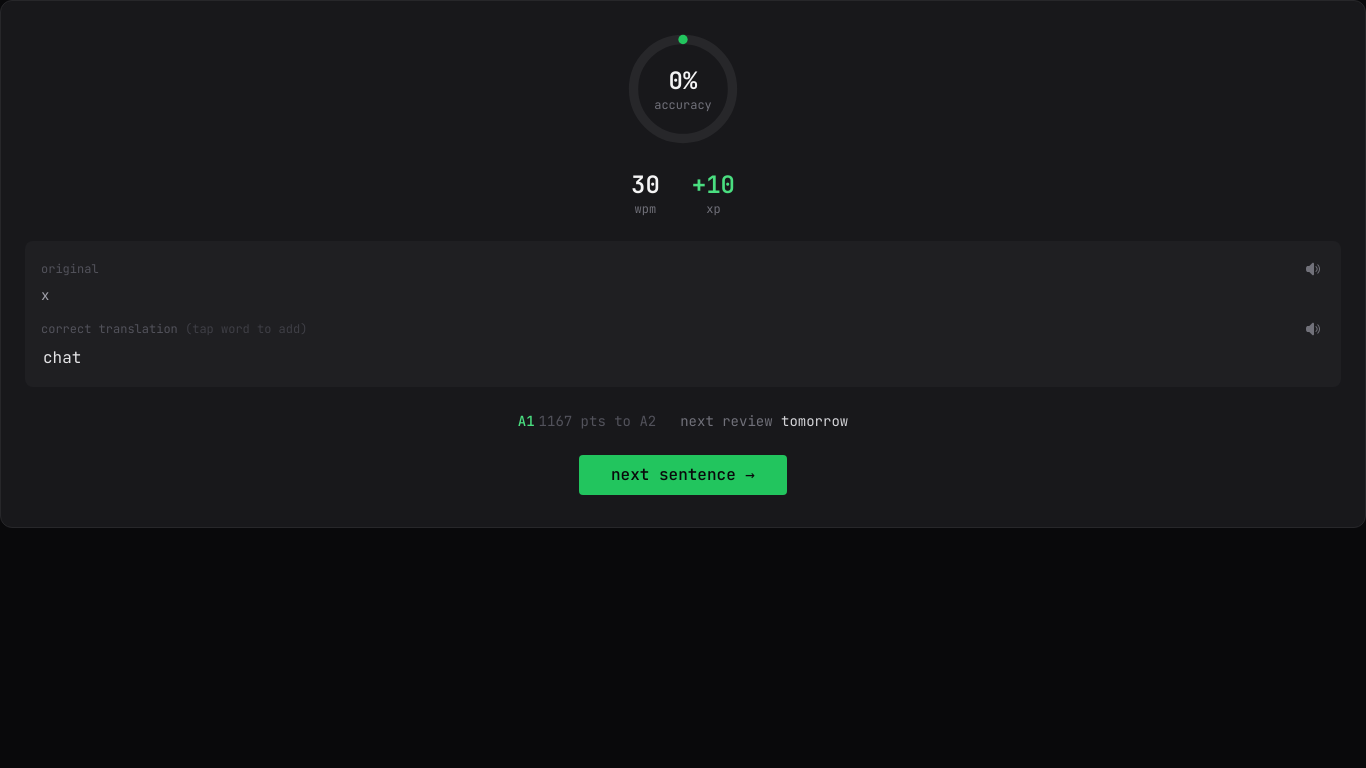
Test: addToVocab › shows "already exists" when the API returns 409
Step 1. Click the text with class "cursor-pointer" → (62, 358), box [41,347,83,368]
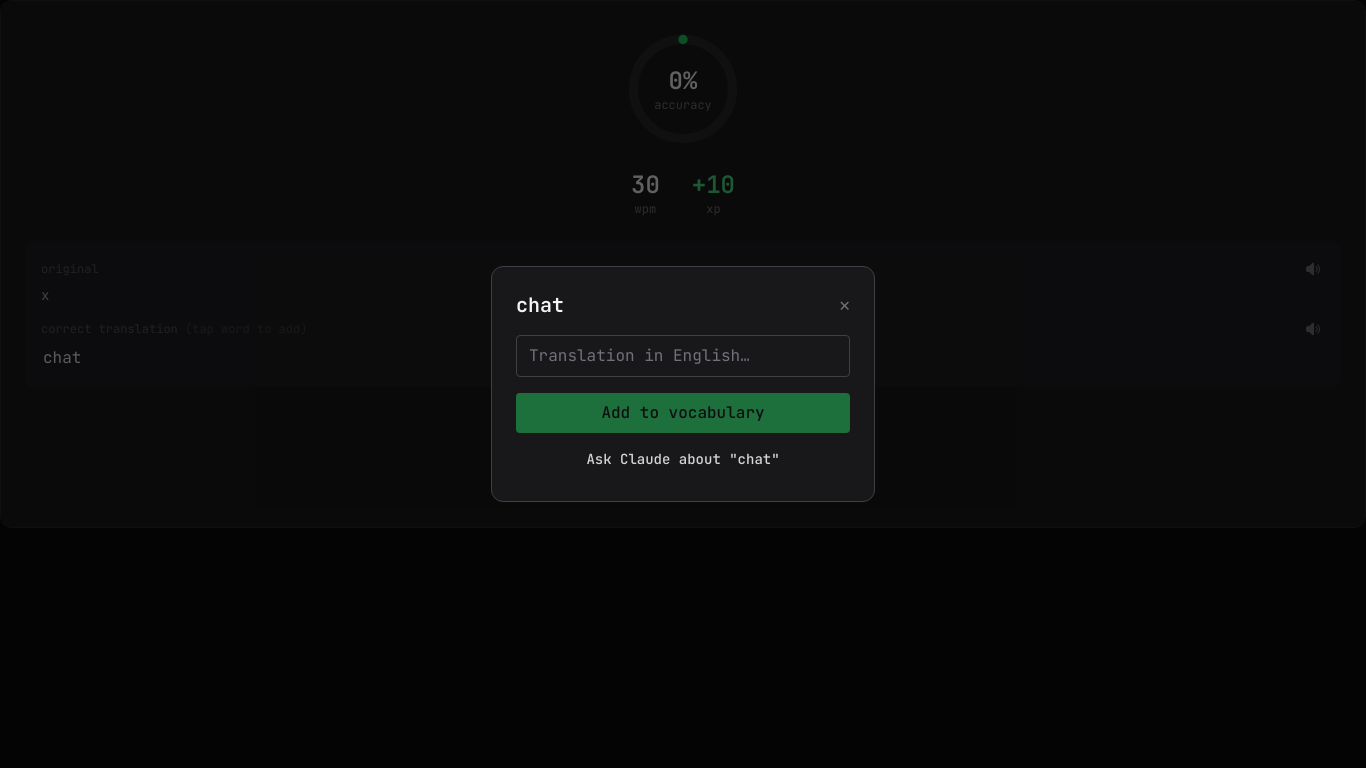
Step 2. Type "cat" into the field with placeholder "Translation in English…" → (683, 356), box [516,335,850,377]
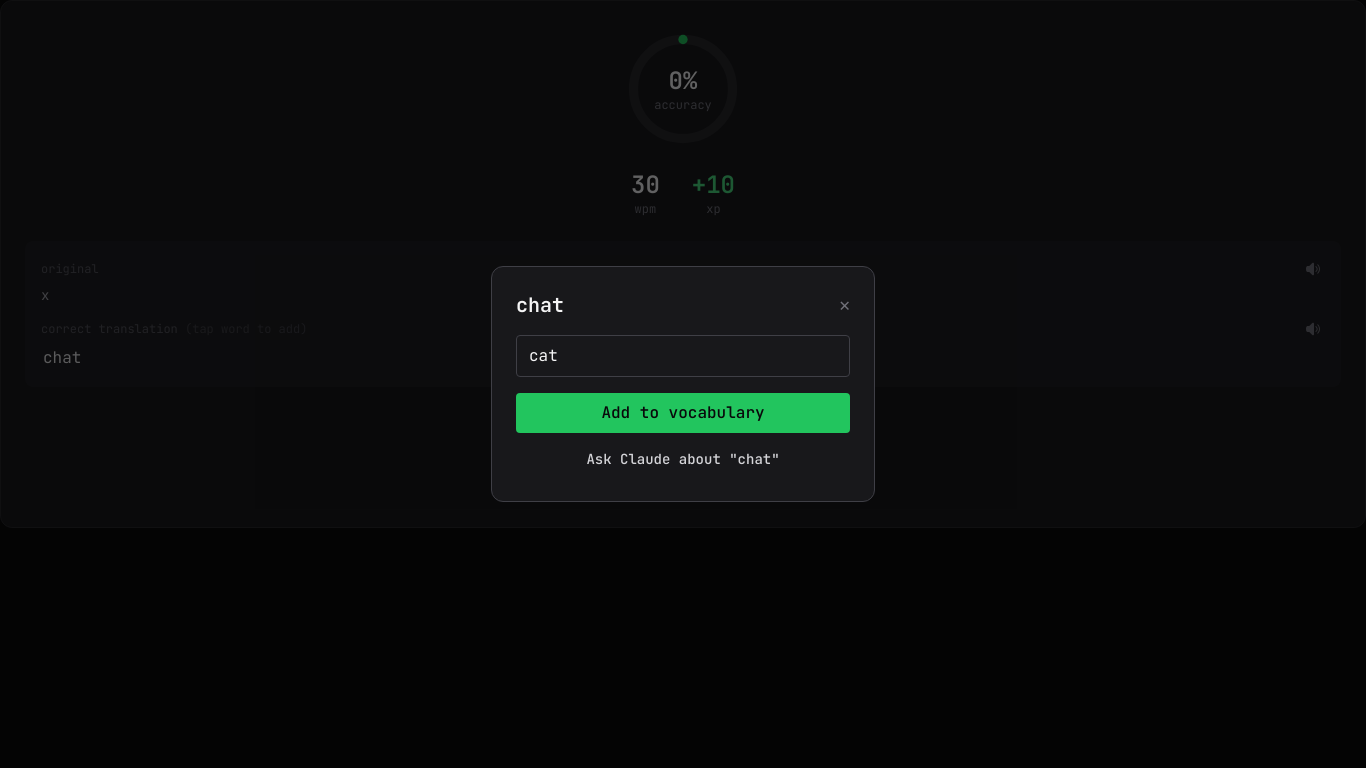
Step 3. Click the button "Add to vocabulary" → (683, 413), box [516,393,850,433]
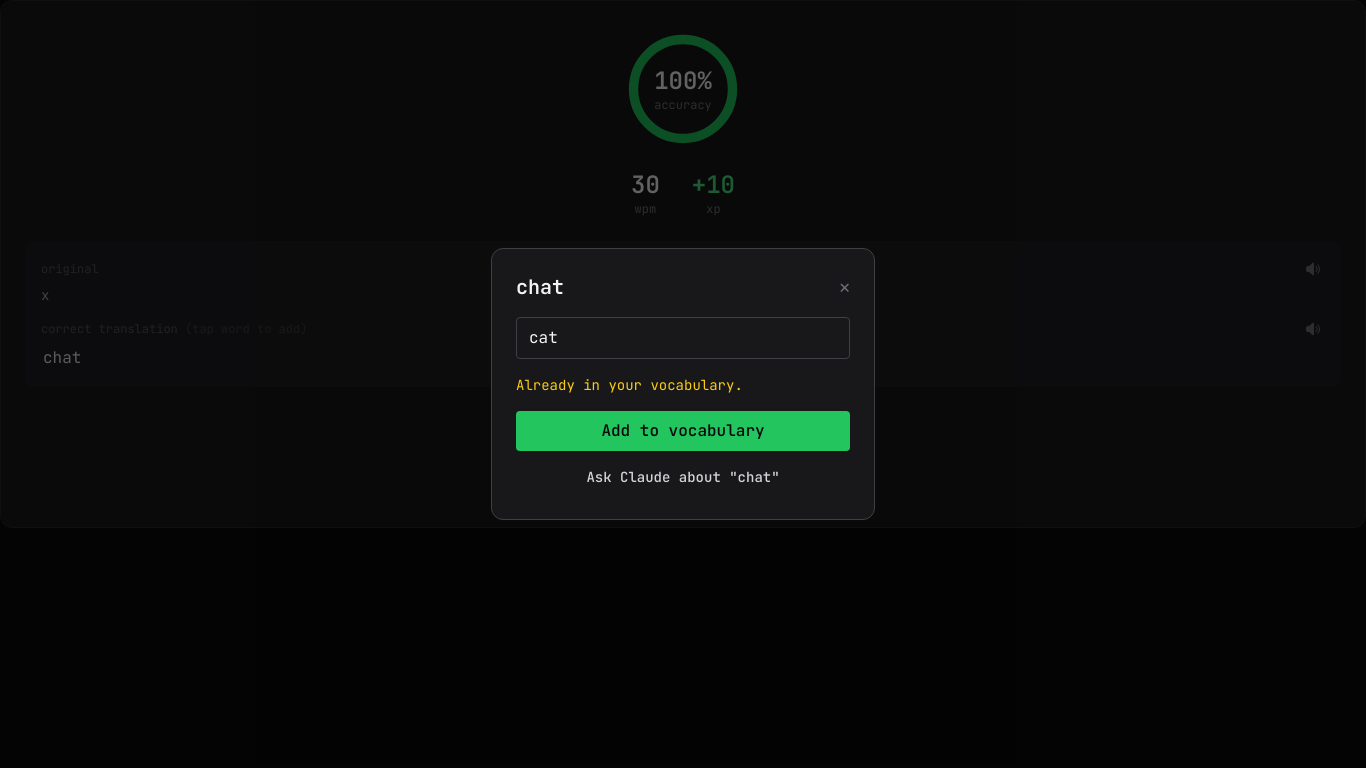
Expected: the text "Already in your vocabulary" is shown, [516,376,743,394]
